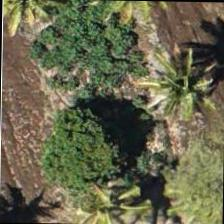Kelapa_Sawit: (149, 44, 223, 137), (59, 162, 152, 223)
